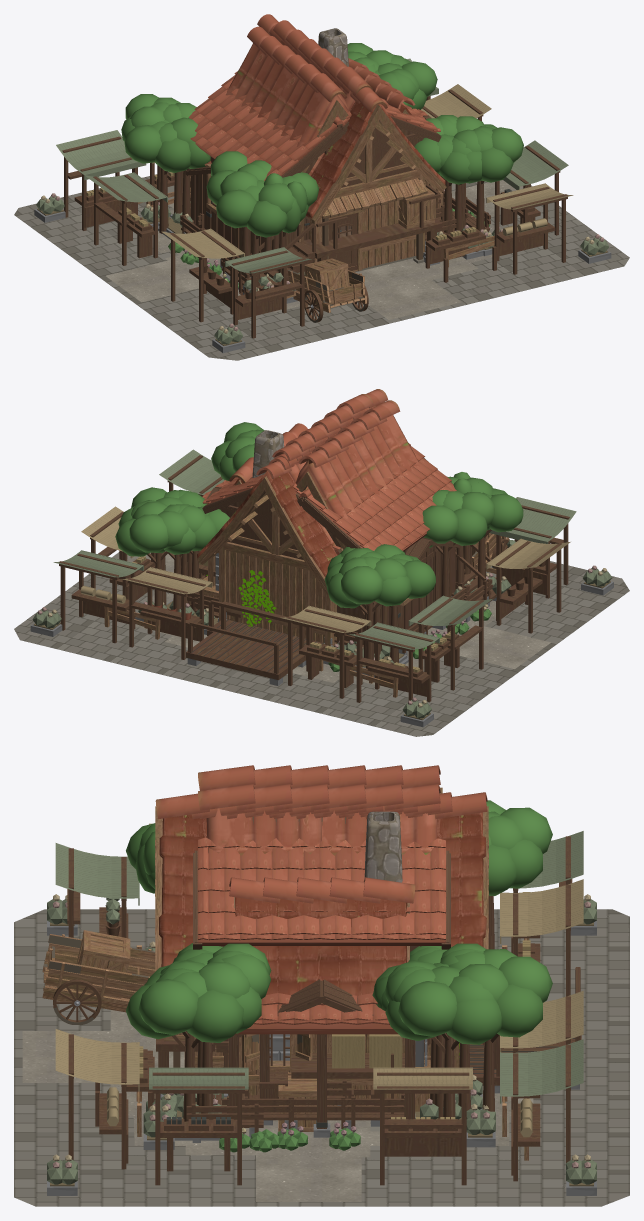
The model's file is c4-normal.glb.
3 views of the same model, one above another, from view 1: azimuth 30°, elevation 25°; view 2: azimuth 150°, elevation 25°; view 3: azimuth 270°, elevation 25° (orthographic). The views are drawn at different scales.
Parts seen in each view (by area): view 1: market-civic-square-surface-paving, Roof_RoundTiles_4x4 (×2), Wall_WoodWear_Door_Flat (×2), facility-farm-roof, market-civic-square-surface-path, plaza-festival-court-foliage-seat-0, Roof_FlatTiles_4x6, plaza-town-square-foliage-seat-0, market-civic-square-stalls-seat-8, market-civic-square-stalls-seat-9, facility-granary-deck, market-civic-square-roof-seat-0 (+38 smaller); view 2: market-civic-square-surface-paving, Wall_WoodWear_Door_Flat, Roof_RoundTiles_4x4 (×2), facility-farm-roof, market-civic-square-stage-seat-0, Roof_FlatTiles_4x6, market-civic-square-surface-path, plaza-fountain-court-foliage-seat-0, market-civic-square-stalls-seat-0, market-civic-square-stalls-seat-2, plaza-fountain-court-foliage-seat-1, market-civic-square-stalls-seat-3 (+41 smaller); view 3: market-civic-square-surface-paving, Roof_RoundTiles_4x4 (×2), facility-granary-roof, Roof_FlatTiles_4x6, Roof_2x4_FlatTile, market-civic-square-surface-path, plaza-festival-court-foliage-seat-1, plaza-town-square-foliage-seat-1, facility-market-kit-Prop_Wagon-0-mesh, market-civic-square-stalls-seat-6, facility-farm-roof, plaza-fountain-court-foliage-seat-1 (+55 smaller).
Boxes of the visible parts, x1,y1,x2,y2 form: market-civic-square-surface-paving: (14, 172, 629, 360); Roof_RoundTiles_4x4 (×2): (204, 20, 415, 175); Wall_WoodWear_Door_Flat (×2): (309, 105, 446, 271); facility-farm-roof: (189, 71, 427, 180); market-civic-square-surface-path: (106, 180, 523, 319); plaza-festival-court-foliage-seat-0: (216, 171, 296, 237); Roof_FlatTiles_4x6: (257, 14, 445, 218); plaza-town-square-foliage-seat-0: (124, 106, 197, 172); market-civic-square-stalls-seat-8: (231, 250, 306, 338); market-civic-square-stalls-seat-9: (493, 186, 567, 274); facility-granary-deck: (302, 184, 442, 258); market-civic-square-roof-seat-0: (56, 130, 146, 180); market-civic-square-surface-paving: (14, 552, 629, 736); Wall_WoodWear_Door_Flat: (197, 402, 384, 646); Roof_RoundTiles_4x4 (×2): (229, 394, 419, 545); facility-farm-roof: (202, 443, 456, 551); market-civic-square-stage-seat-0: (186, 621, 305, 685); Roof_FlatTiles_4x6: (197, 389, 387, 577); market-civic-square-surface-path: (116, 551, 550, 669); plaza-fountain-court-foliage-seat-0: (327, 566, 411, 608); market-civic-square-stalls-seat-0: (355, 626, 433, 702); market-civic-square-stalls-seat-2: (127, 570, 205, 659); plaza-fountain-court-foliage-seat-1: (115, 500, 195, 556); market-civic-square-stalls-seat-3: (59, 553, 137, 643); market-civic-square-surface-paving: (14, 909, 629, 1206); Roof_RoundTiles_4x4 (×2): (198, 765, 440, 903); facility-granary-roof: (193, 837, 450, 949); Roof_FlatTiles_4x6: (155, 792, 487, 966); Roof_2x4_FlatTile: (235, 897, 407, 1000); market-civic-square-surface-path: (22, 1031, 361, 1201); plaza-festival-court-foliage-seat-1: (126, 960, 250, 1042); plaza-town-square-foliage-seat-1: (385, 962, 508, 1044); facility-market-kit-Prop_Wagon-0-mesh: (42, 934, 155, 1024); market-civic-square-stalls-seat-6: (377, 1072, 469, 1185); facility-farm-roof: (235, 993, 398, 1034); plaza-fountain-court-foliage-seat-1: (448, 956, 552, 1037).
Bounding box in the file's own units: 16 × 6.9 × 14.
Materials: 16 (11 with a texture image).
